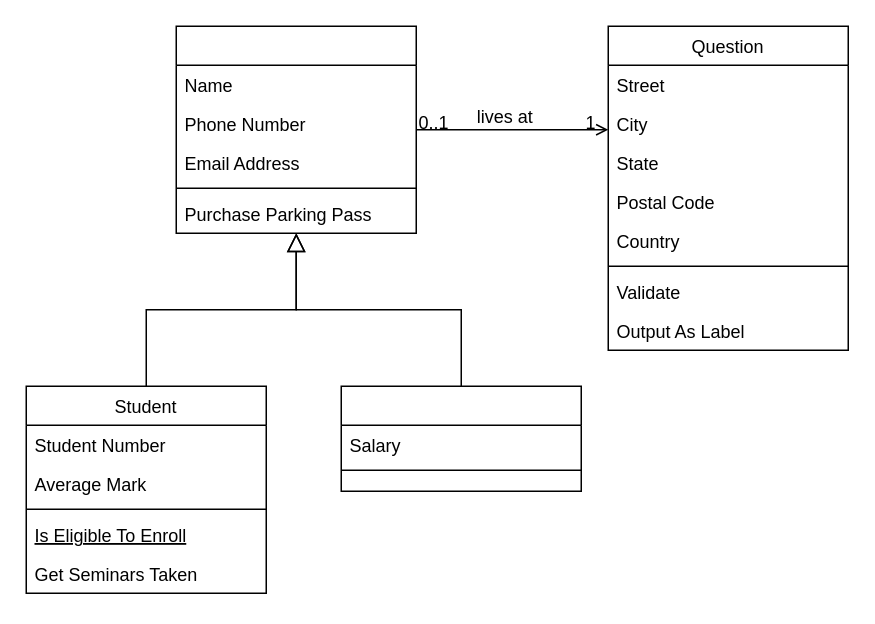
This 875x624 diagram has some shape labels left out. Each missing label, with the box of its shape:
Professor: (340, 385, 581, 491)
User: (175, 25, 416, 233)
